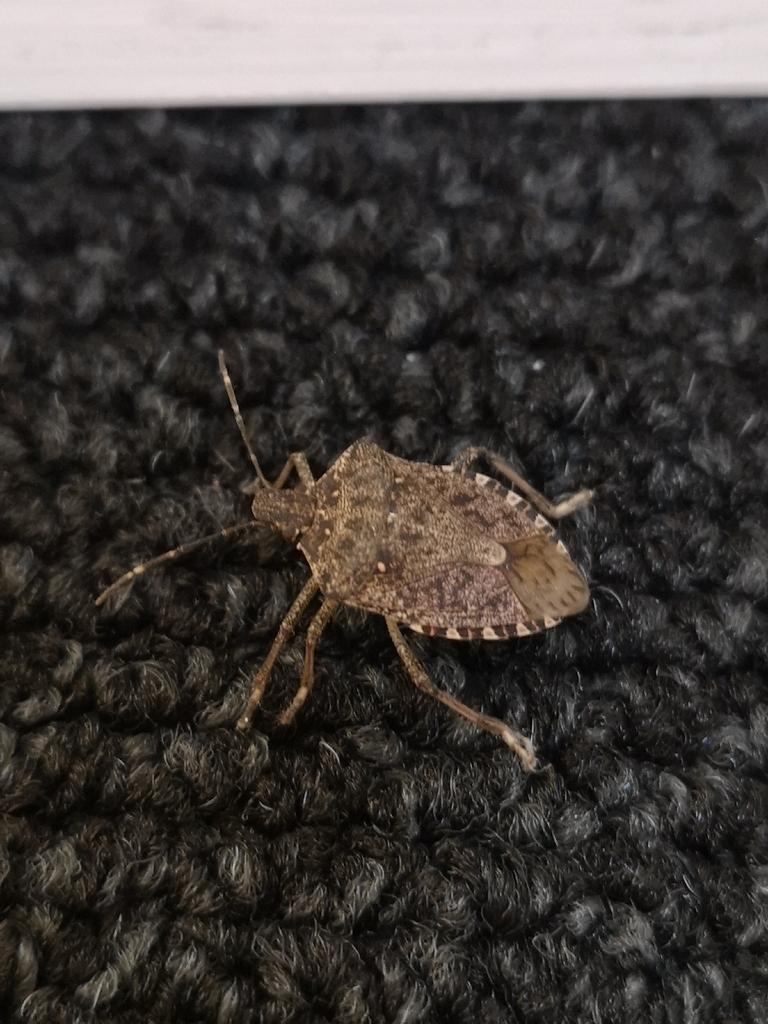stink_bugs: (57, 289, 724, 835)
